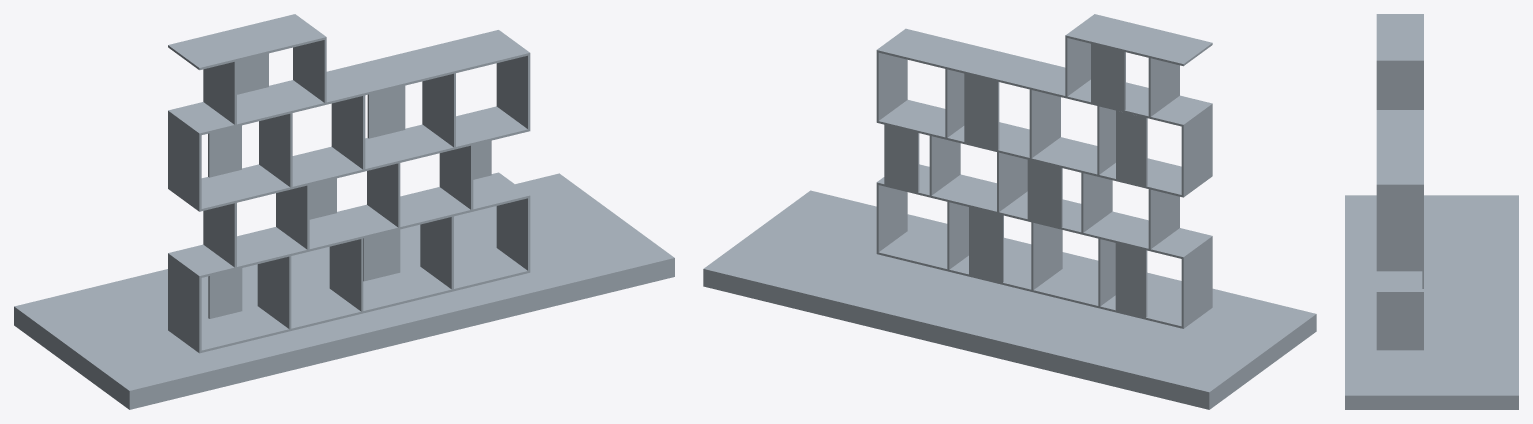
File: shelf v11.gltf
The picture shows the model from 3 angles, left to right: view 1: azimuth 30°, elevation 25°; view 2: azimuth 150°, elevation 25°; view 3: azimuth 270°, elevation 25°; orthographic projection. The views are drawn at different scales.
Bounding box in the file's own units: 300 × 160 × 110.
